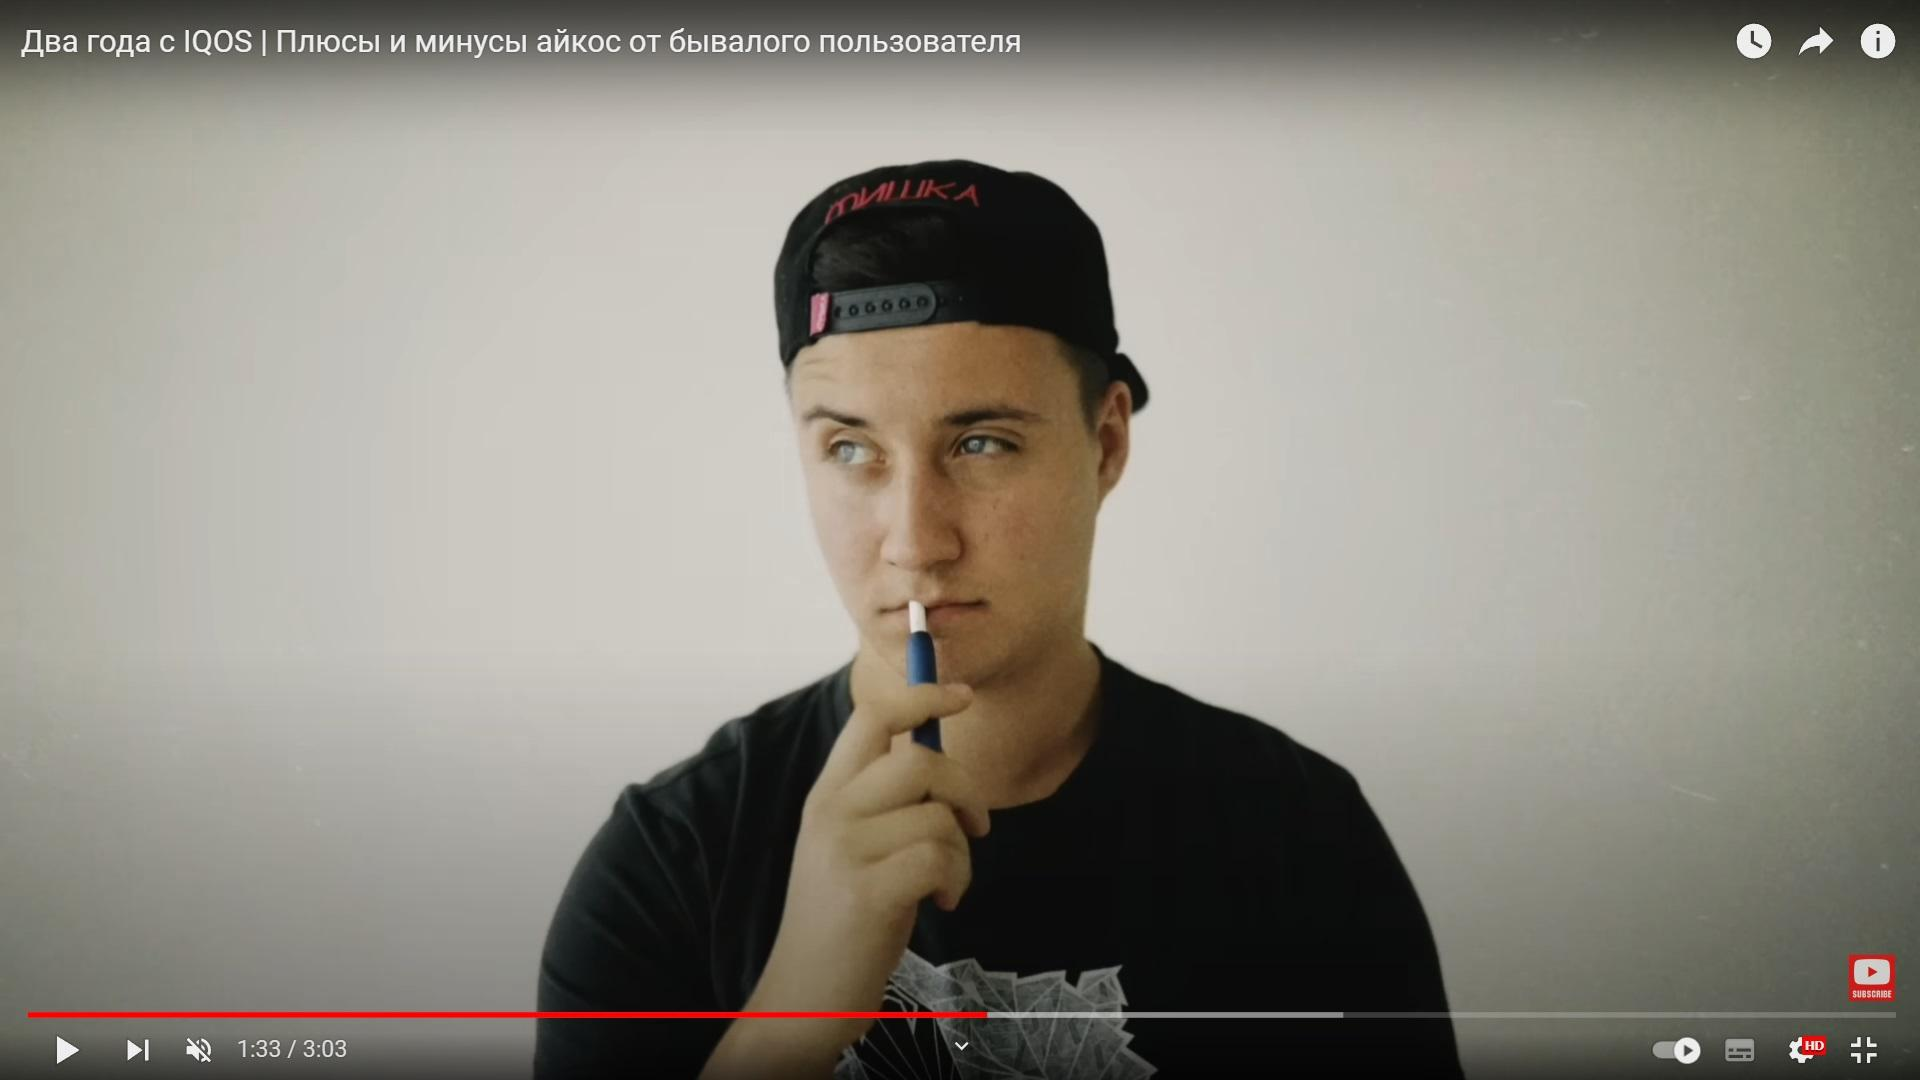iqos: (906, 600, 943, 753)
